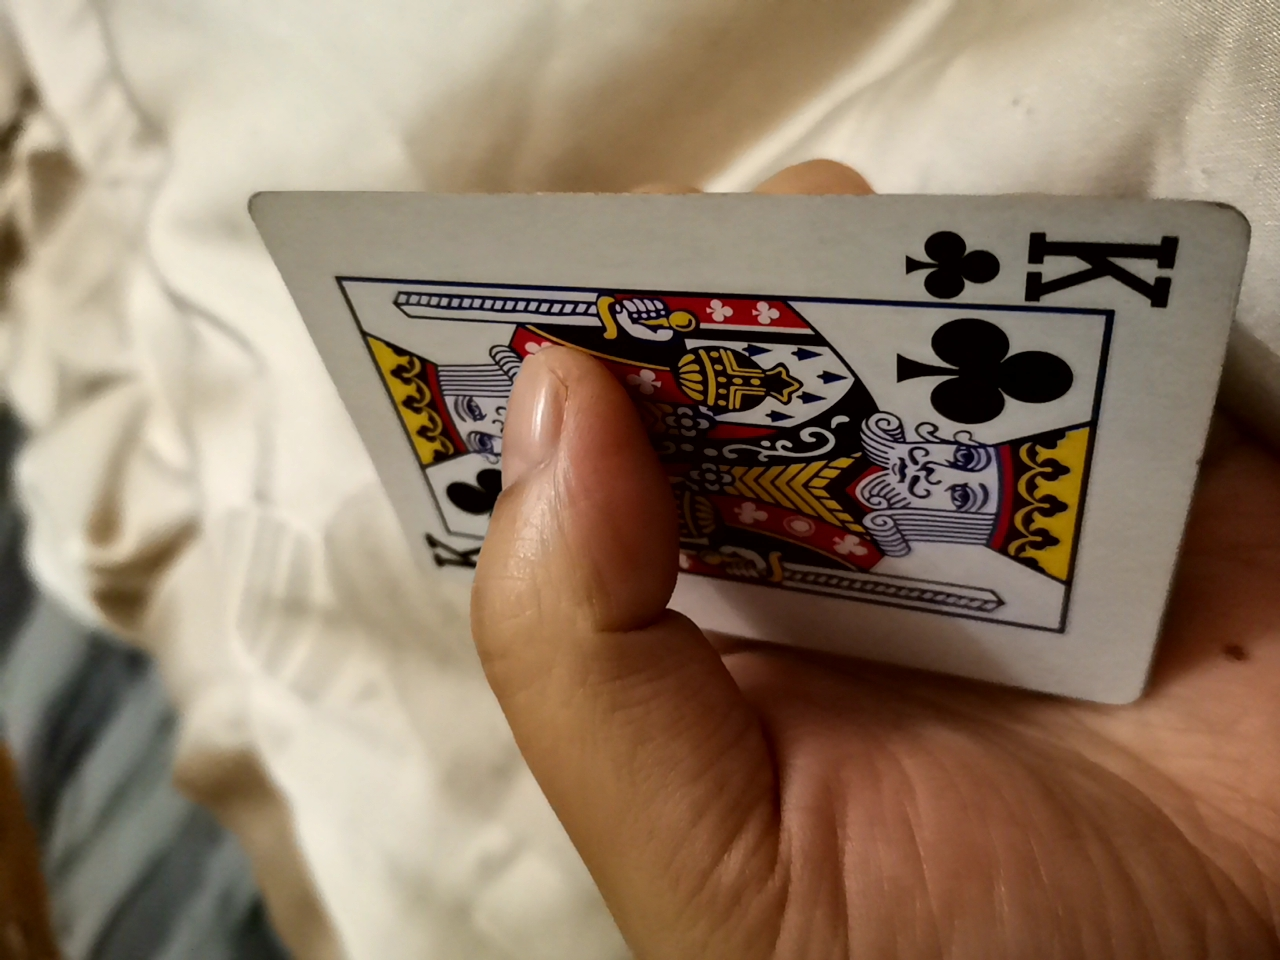mh k: (245, 122, 1217, 741)
